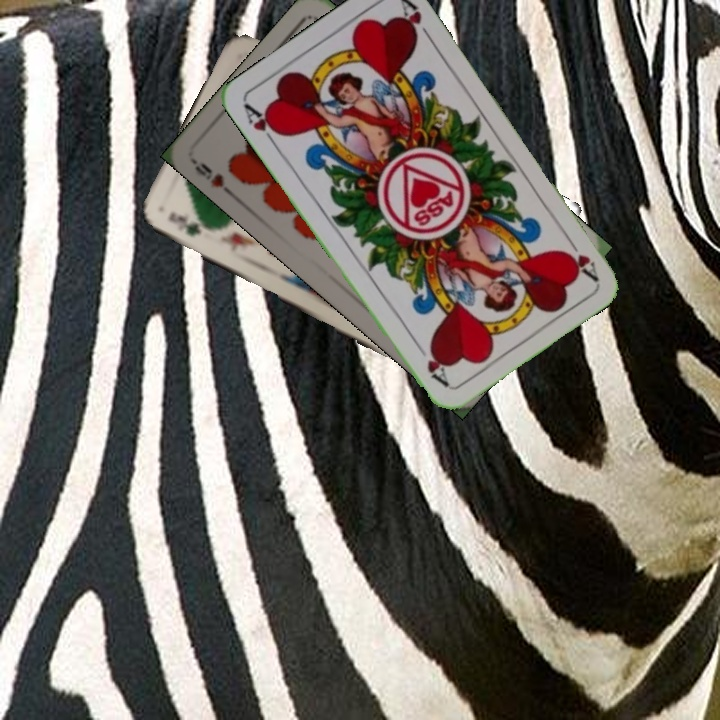GK: (164, 207, 219, 239)
H9: (189, 156, 238, 200)
HA: (240, 100, 286, 151), (560, 230, 601, 284)
